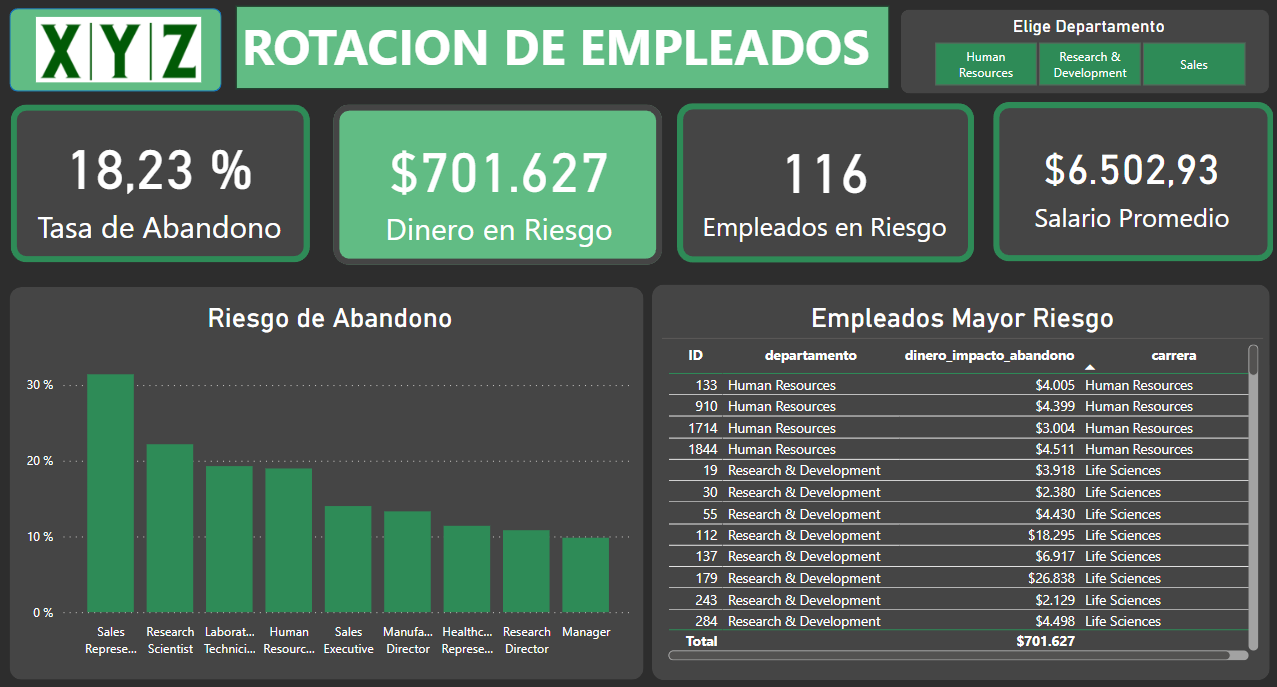

Layout of this report page (visuals, bound fields, positions):
{"tool":"powerbi","page":{"name":"Página 1","canvas":[1280,720],"ordinal":0},"visuals":[{"type":"shape","box":[903,16.7,360.3,82.1],"z":0},{"type":"shape","box":[32.3,288.8,620.2,384.1],"z":0,"group":"g4"},{"type":"shape","box":[32.3,15.4,207.4,81.4],"z":1000},{"type":"clusteredColumnChart","title":"Riesgo de Abandono","fields":{"Category":["Tabla1.puesto"],"Y":["Avg(Tabla1.scoring_abandono)"]},"box":[42.7,303,604.6,354.5],"z":1000,"group":"g4"},{"type":"shape","box":[347.9,110.5,321.7,156.8],"z":2000,"group":"g2"},{"type":"shape","box":[660.1,286.5,604.2,386.9],"z":2000},{"type":"shape","box":[993.6,108,274.2,155.8],"z":3000,"group":"g5"},{"type":"shape","box":[684.6,109.3,290.6,155.8],"z":3000,"group":"g1"},{"type":"tableEx","title":"Empleados Mayor Riesgo","fields":{"Values":["Tabla1.identificador","Tabla1.departamento","Tabla1.suma_impacto_abandono","Tabla1.carrera"]},"box":[669.5,302.7,587.9,354.2],"z":3000},{"type":"textbox","box":[253.5,13.8,639.2,81.4],"z":4000},{"type":"shape","box":[32.7,110.5,292.5,154.3],"z":4000,"group":"g3"},{"type":"image","box":[23,20,230.5,73.8],"z":5000},{"type":"card","fields":{"Values":["Tabla1.Tasa de Abandono"]},"box":[52.4,115.6,251.9,144.1],"z":5000,"group":"g3"},{"type":"group","id":"g1","title":"Grupo 1","box":[684.6,109.3,290.2,155.8],"z":6000},{"type":"card","fields":{"Values":["Tabla1.suma_impacto_abandono"]},"box":[357.6,117,305.1,146.4],"z":6000,"group":"g2"},{"type":"group","id":"g2","title":"Grupo 2","box":[347.9,110.5,321.6,157],"z":7000},{"type":"card","fields":{"Values":["Avg(Tabla1.salario_mes)"]},"box":[1002.5,113.5,254.4,145.3],"z":7000,"group":"g5"},{"type":"card","fields":{"Values":["Sum(Tabla1.Riesgo)"]},"box":[694,114.8,269.6,145.3],"z":7000,"group":"g1"},{"type":"group","id":"g3","title":"Grupo 3","box":[32.7,110.5,292.7,154.5],"z":8000},{"type":"group","id":"g4","title":"Grupo 4","box":[32.3,288.8,620.2,384.1],"z":9000},{"type":"group","id":"g5","title":"Grupo 1","box":[993.6,108,274.2,155.8],"z":10000},{"type":"slicer","title":"Elige Departamento","fields":{"Values":["Tabla1.departamento"]},"box":[910.7,23.2,353.3,70.9],"z":11000}]}

Visuals, with their boxes on the page's 1280x720 design canvas (x1, y1, x2, y2). These are canvas units, not pixel positions in the 1277x687 screenshot, which may show the page scaled, cropped or inside an application window:
shape: box(903, 17, 1263, 99)
shape: box(32, 289, 652, 673)
shape: box(32, 15, 240, 97)
"Riesgo de Abandono" clusteredColumnChart: box(43, 303, 647, 658)
shape: box(348, 110, 670, 267)
shape: box(660, 286, 1264, 673)
shape: box(994, 108, 1268, 264)
shape: box(685, 109, 975, 265)
"Empleados Mayor Riesgo" tableEx: box(670, 303, 1257, 657)
textbox: box(254, 14, 893, 95)
shape: box(33, 110, 325, 265)
image: box(23, 20, 254, 94)
card - Tabla1.Tasa de Abandono: box(52, 116, 304, 260)
"Grupo 1" group: box(685, 109, 975, 265)
card - Tabla1.suma_impacto_abandono: box(358, 117, 663, 263)
"Grupo 2" group: box(348, 110, 670, 268)
card - Avg(Tabla1.salario_mes): box(1002, 114, 1257, 259)
card - Sum(Tabla1.Riesgo): box(694, 115, 964, 260)
"Grupo 3" group: box(33, 110, 325, 265)
"Grupo 4" group: box(32, 289, 652, 673)
"Grupo 1" group: box(994, 108, 1268, 264)
"Elige Departamento" slicer: box(911, 23, 1264, 94)
